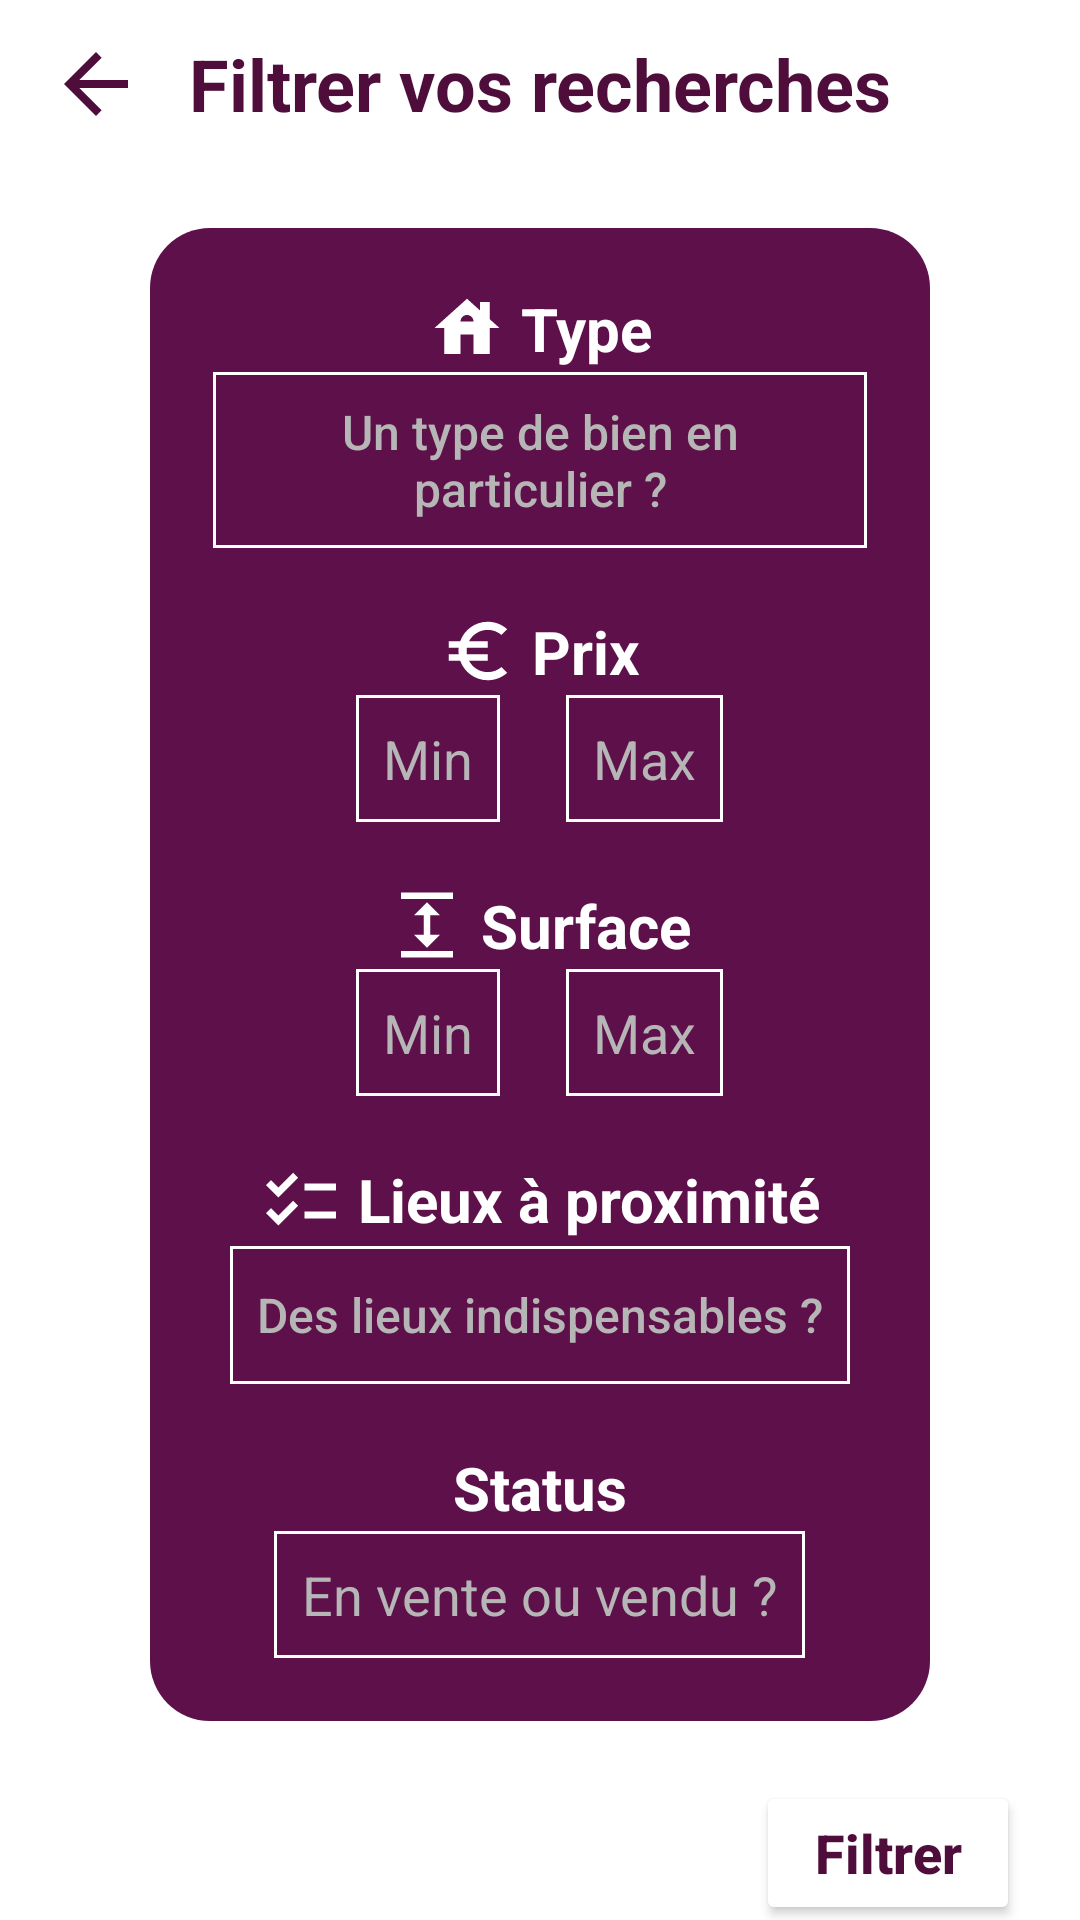

Icons on this 1080px×1920px Android screen, each with its box as (x1, y1, x2, y2):
Retour à la page d'accueil: (64, 52, 128, 116)
